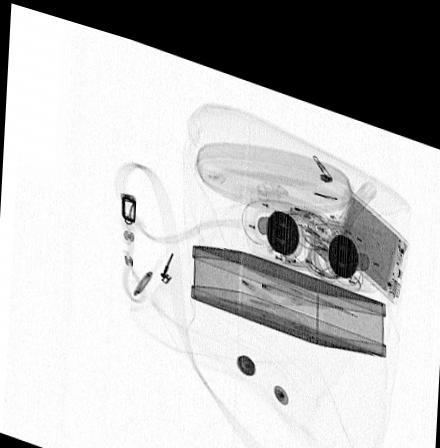Powerbank: (326, 166, 412, 281)
